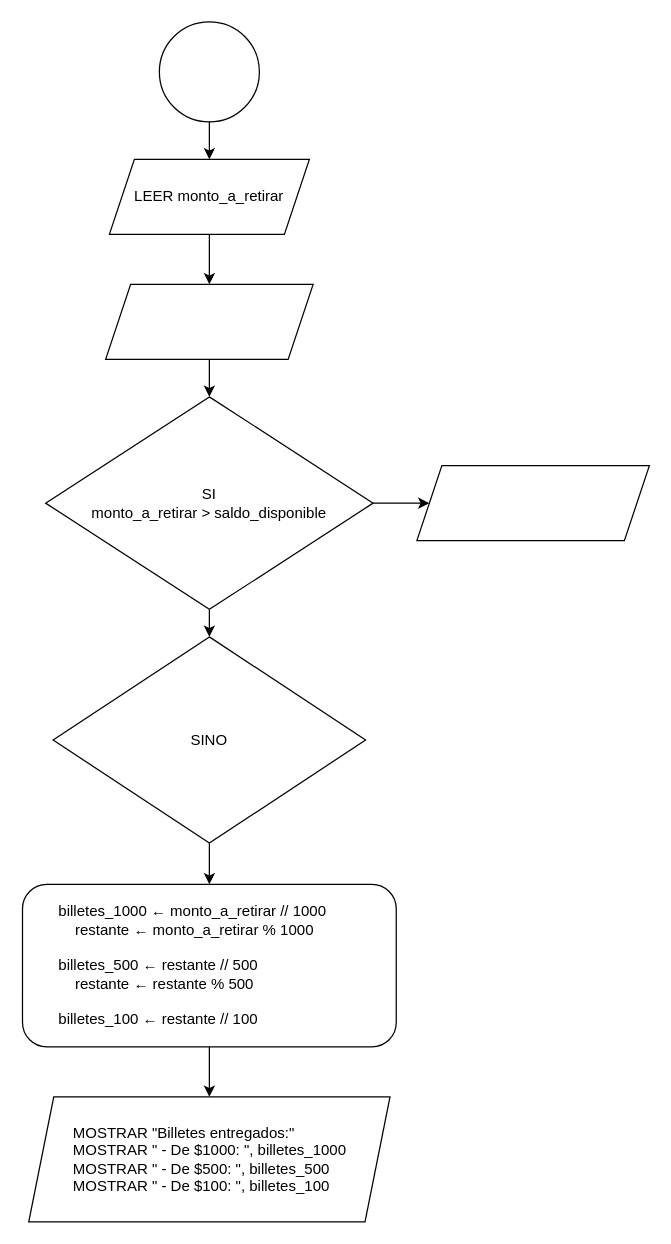
The diagram is 671 pixels wide and 1244 high, and some of its shapes have lost their labels. Here are the shapes that lost their labels. From the top down, the centre of each, then its label:
[208,71]: INICIO
[208,321]: LEER saldo_disponible
[532,502]: MOSTRAR "Saldo Insuficiente"
